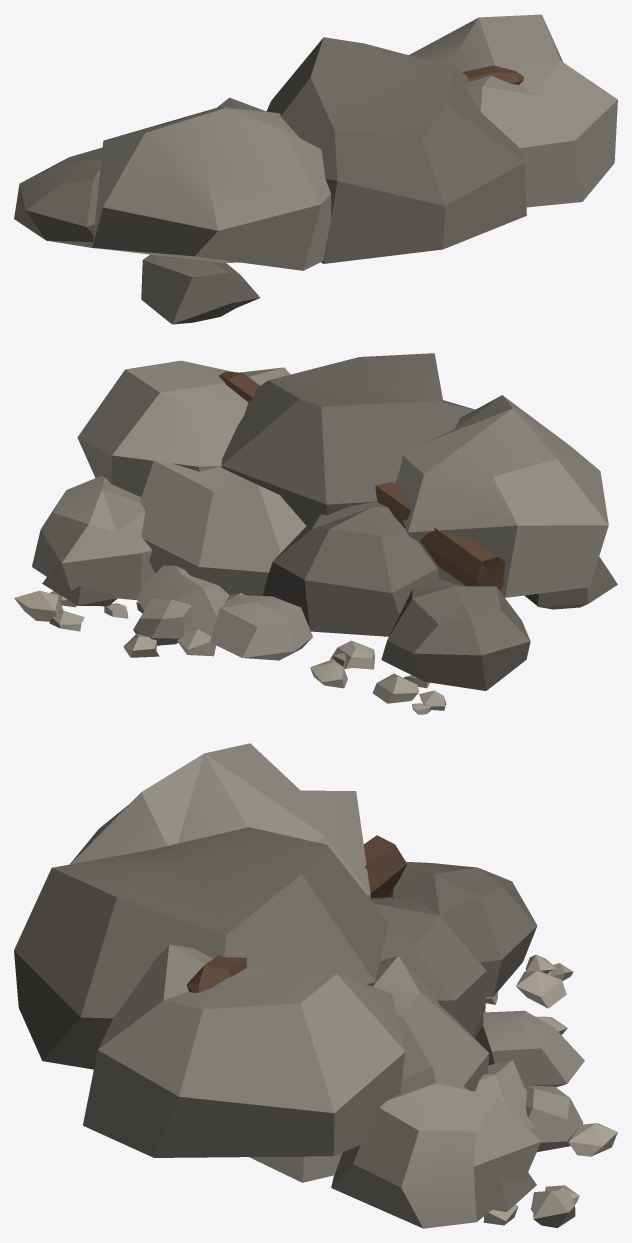
Rendered from rockslide.glb.
The picture shows the model from 3 angles, top to bottom: view 1: azimuth 30°, elevation 25°; view 2: azimuth 150°, elevation 25°; view 3: azimuth 270°, elevation 25°; orthographic projection. The views are drawn at different scales.
Visible parts, largest first — view 1: rockslide; view 2: rockslide; view 3: rockslide.
Part boxes in pixels (left/top/right/bottom): rockslide: left=14, top=14, right=617, bottom=324; rockslide: left=14, top=353, right=617, bottom=714; rockslide: left=14, top=743, right=617, bottom=1228.
Size of the model in its own units: 4.46 by 1.66 by 3.6.
